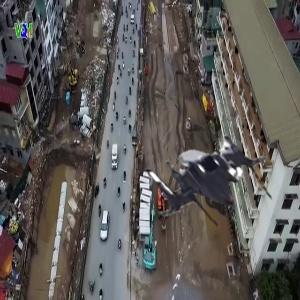drone: (137, 106, 279, 248)
